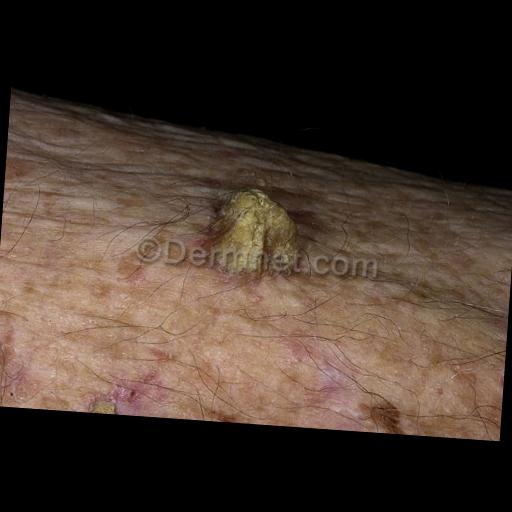Skin_Lesion: (207, 185, 300, 279), (356, 391, 406, 433), (114, 374, 162, 412)
